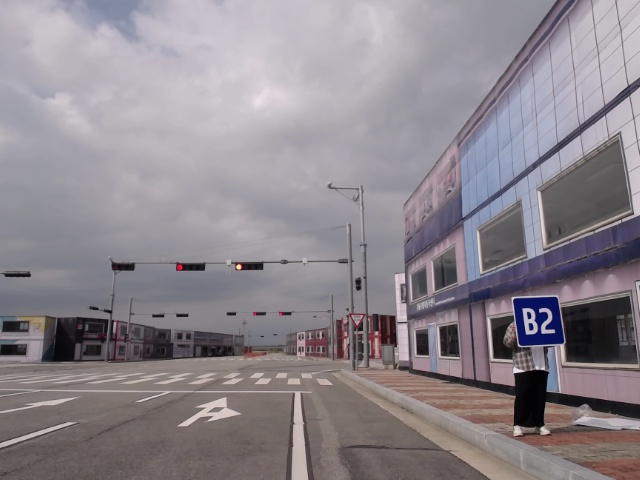delivery_b2: (508, 294, 567, 349)
red_4: (173, 260, 208, 273), (234, 261, 266, 272), (251, 310, 268, 317), (278, 310, 295, 317)
